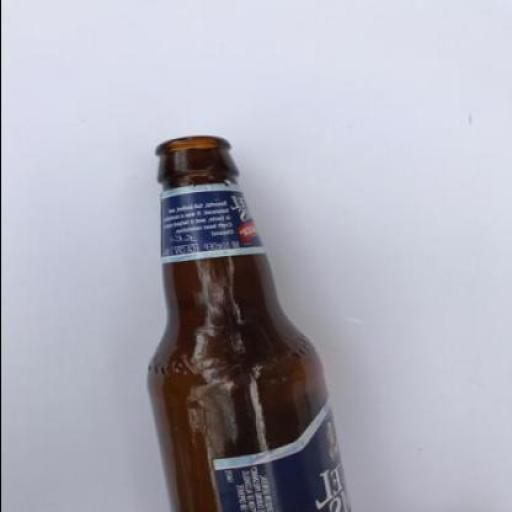glass: (144, 135, 350, 511)
